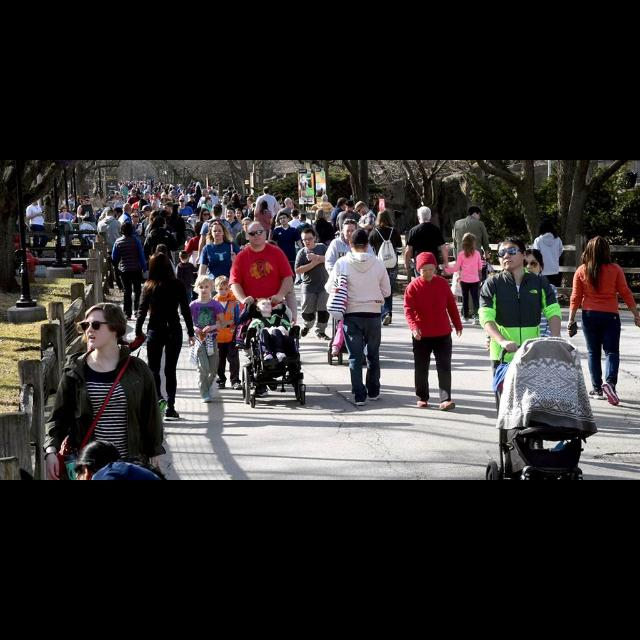head: (84, 303, 126, 351), (497, 236, 528, 270), (520, 248, 544, 280), (588, 239, 610, 263), (246, 222, 268, 246), (149, 252, 171, 276), (349, 232, 371, 254), (418, 258, 438, 282), (214, 276, 232, 300), (300, 228, 318, 250), (196, 278, 214, 298), (342, 220, 358, 242), (462, 233, 478, 250), (416, 207, 432, 223), (211, 222, 225, 240), (468, 206, 482, 222), (355, 201, 369, 217), (256, 299, 272, 313), (242, 218, 254, 234), (120, 222, 134, 235), (542, 222, 554, 236), (379, 210, 391, 224), (211, 204, 223, 218), (178, 250, 190, 264), (154, 217, 168, 229), (195, 222, 207, 236), (344, 200, 356, 212), (337, 198, 349, 210), (279, 212, 291, 224), (156, 244, 168, 256), (142, 206, 154, 218), (200, 209, 212, 221), (122, 203, 134, 214), (291, 208, 301, 220), (164, 202, 173, 214), (284, 197, 294, 207), (316, 210, 324, 222), (132, 213, 140, 224), (106, 209, 114, 219), (260, 200, 268, 210), (322, 194, 330, 203), (299, 214, 307, 222), (61, 205, 69, 213), (31, 198, 39, 206), (83, 196, 91, 204), (263, 187, 271, 195), (178, 198, 186, 206)
person: (478, 235, 566, 461), (502, 247, 564, 453), (322, 227, 392, 409), (227, 220, 293, 398), (132, 249, 196, 425), (402, 250, 463, 412), (323, 216, 379, 358), (402, 205, 450, 327), (194, 221, 242, 341), (185, 272, 227, 404), (292, 227, 336, 343), (364, 208, 404, 328), (450, 205, 492, 319), (207, 274, 246, 391), (442, 232, 486, 326), (110, 220, 148, 324), (138, 216, 180, 306), (194, 202, 238, 286), (246, 296, 292, 370), (531, 219, 565, 319), (268, 212, 304, 292), (140, 242, 178, 316), (154, 200, 188, 282), (96, 208, 128, 294), (232, 217, 264, 301), (349, 200, 378, 282), (193, 207, 219, 296), (274, 196, 302, 276), (252, 185, 284, 251), (184, 220, 212, 294), (307, 208, 335, 278), (171, 248, 199, 318), (115, 202, 139, 280), (334, 198, 361, 266), (291, 213, 315, 287), (137, 203, 161, 277), (327, 195, 351, 263), (25, 193, 49, 261), (123, 212, 145, 282), (252, 199, 274, 267), (75, 194, 101, 250), (311, 193, 335, 253), (284, 207, 306, 267), (53, 203, 75, 261), (175, 197, 195, 237)
